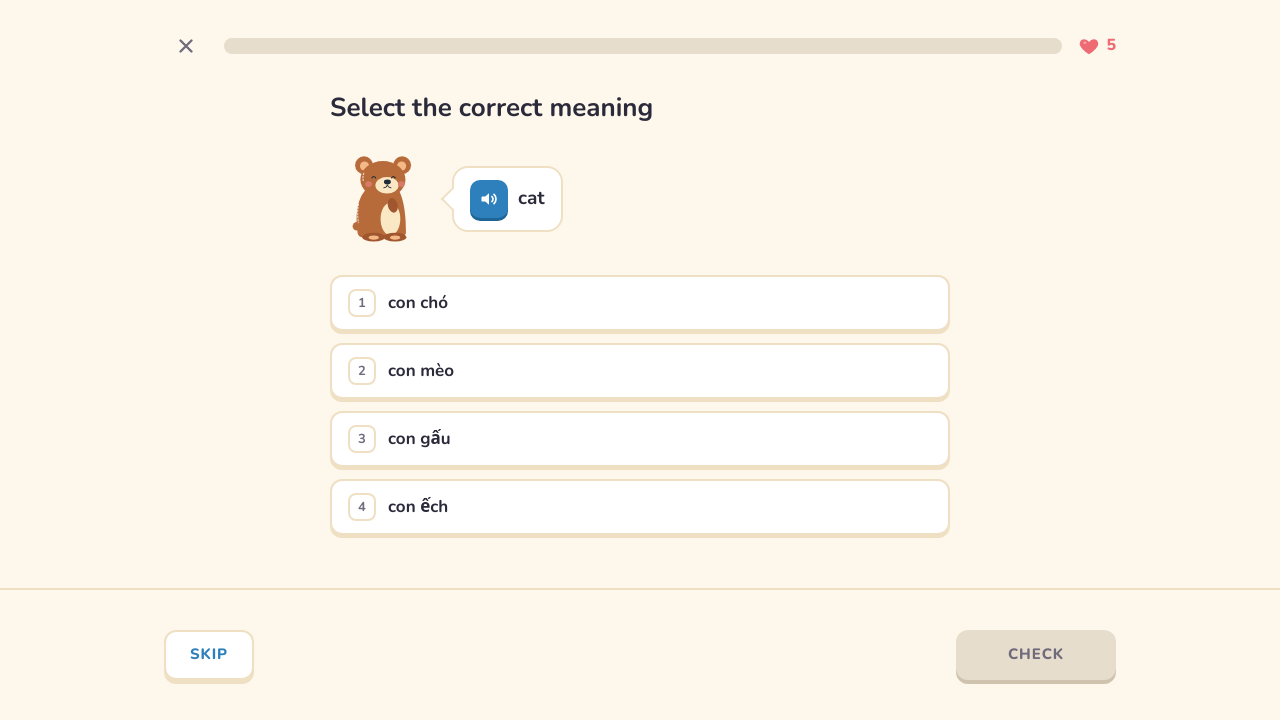
Test: LessonPlayer › grades a correct answer and completes the session
Later steps or results of the test are not shown.
Expected: the button "Check" is disabled, [956,630,1116,680]
Click the button "2 con mèo" at (421, 370), box [330,343,950,399]
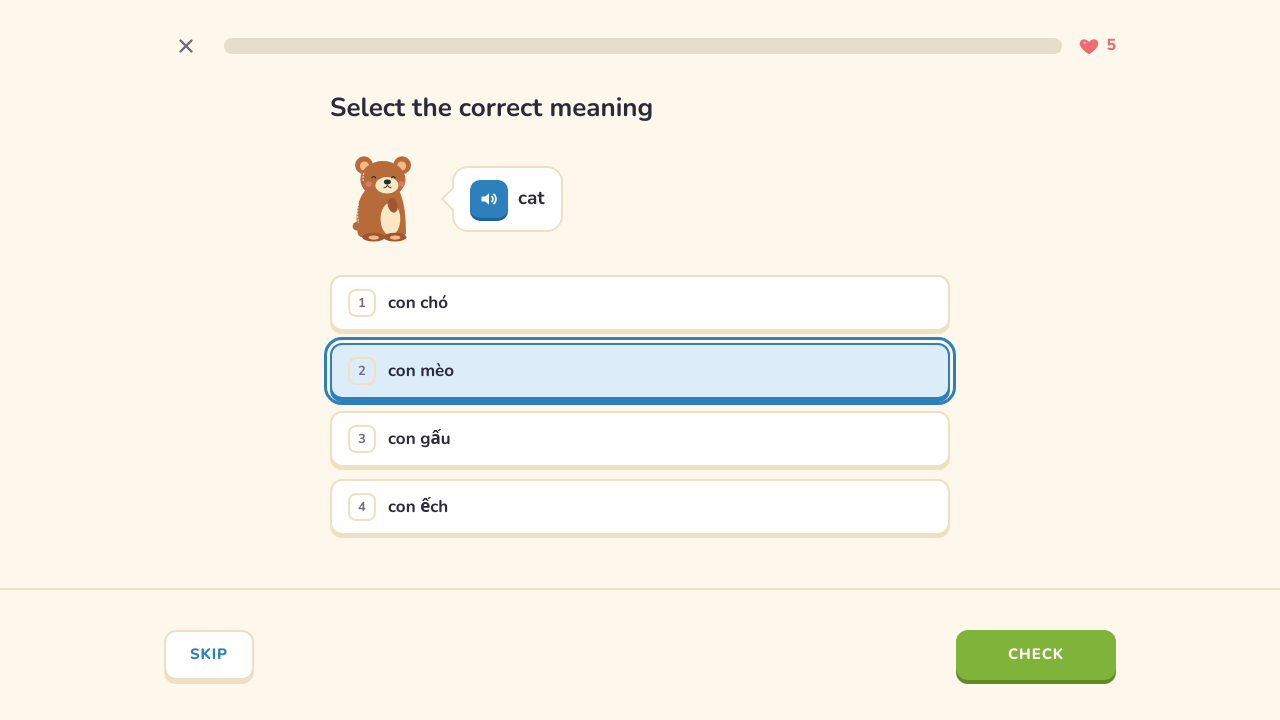
Click the button "Check" at (1036, 655), box [956,630,1116,680]
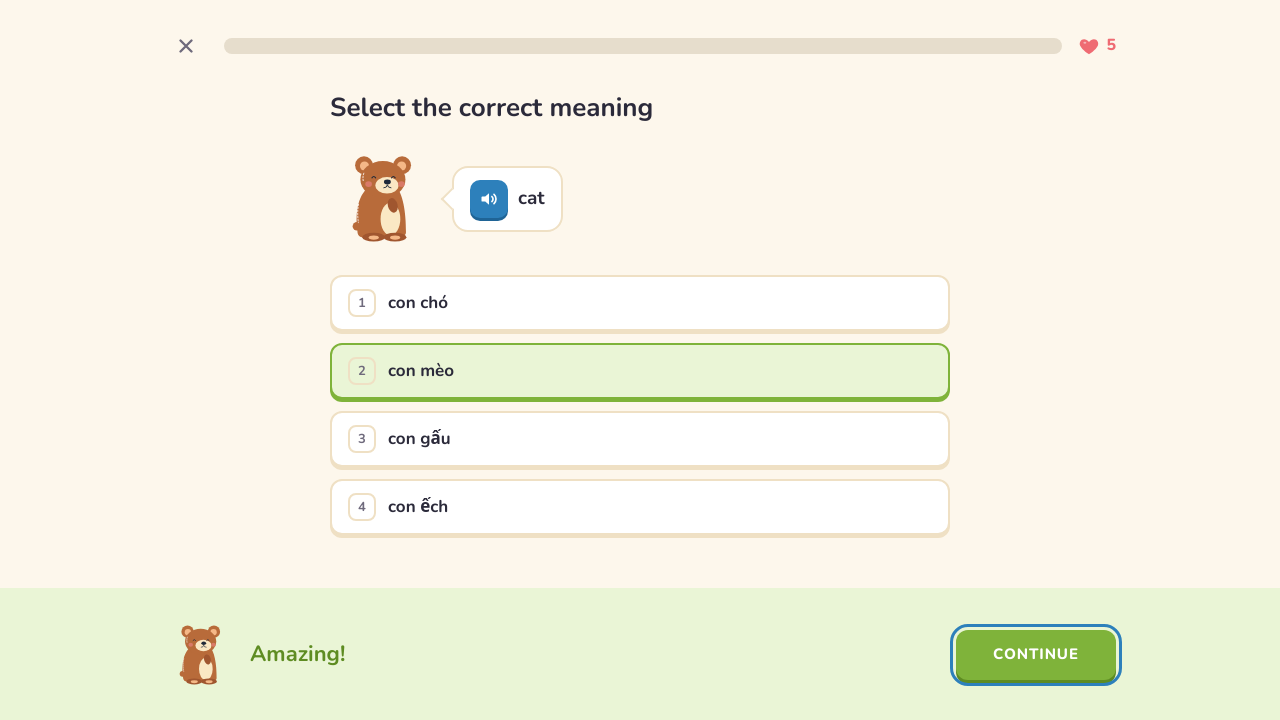
Expected: the heading "Amazing!" is shown, [250,639,345,671]
